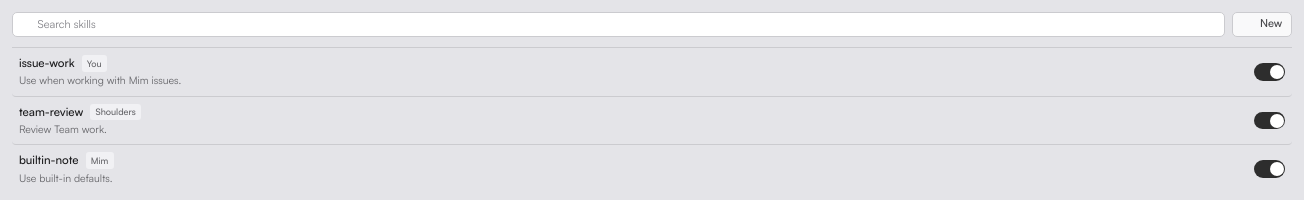
Test: SkillsSettingsPanel › renders one searchable flat list with actual origin labels
Type "team" into the search field with test id "skill-search" at (618, 24), box [12, 12, 1225, 36]
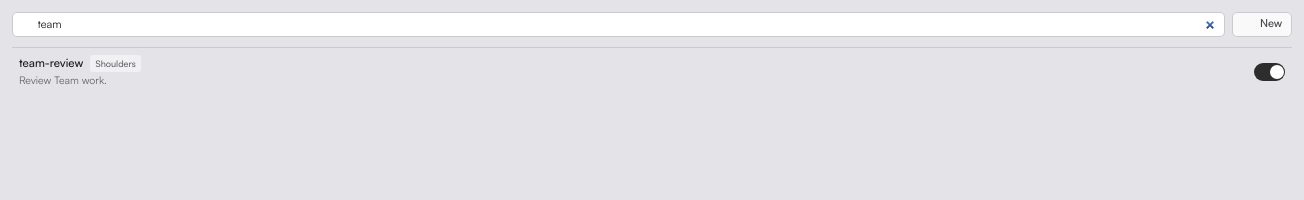
Expected: the text "team-review" is shown, [19, 55, 83, 72]
Expected: the text "builtin-note" is gone
